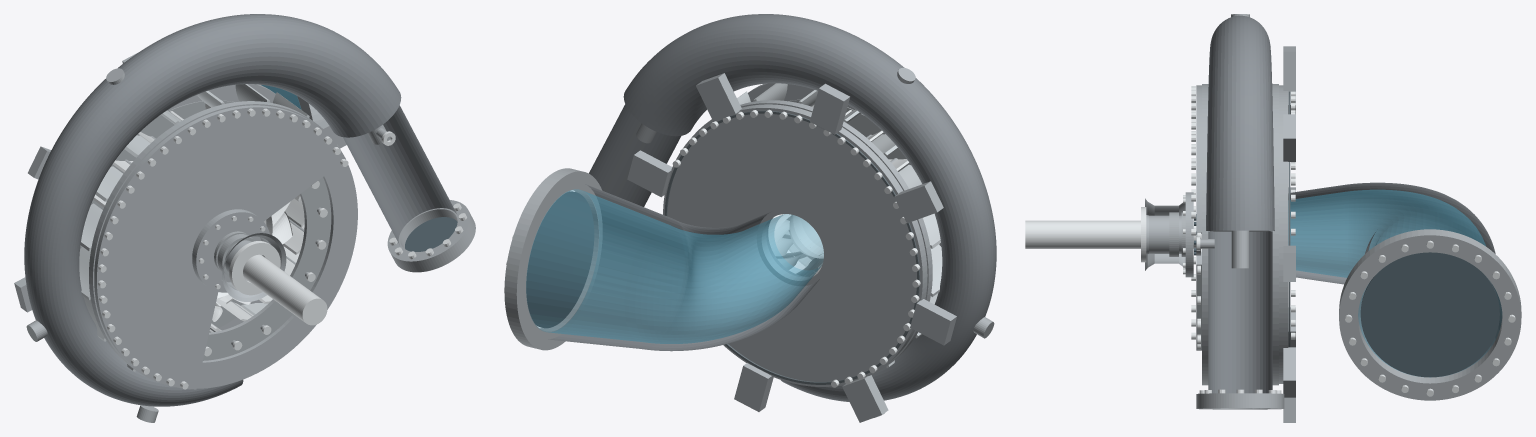
File: francis_hydroelectric_turbine.glb
The picture shows the model from 3 angles, left to right: view 1: azimuth 30°, elevation 25°; view 2: azimuth 150°, elevation 25°; view 3: azimuth 270°, elevation 25°; orthographic projection.
Visible parts, largest first — view 1: 01_Spiral_Casing_Cutaway, 50_Top_Casing_Cover_Cutaway, 10_Stay_Ring_Upper, 03_Tangential_Inlet_Pipe, 20_Guide_Vane_Upper_Rail, 04_Inlet_Flange, 40_Main_Vertical_Shaft, 43_Bearing_Pedestal_Flange, 54_Top_Cover_Bolt_Set, 21_Guide_Vane_Lower_Rail, 45_Bearing_Top_Gland, 05_Inlet_Bore_Shadow (+8 smaller); view 2: 51_Bottom_Casing_Cover, 01_Spiral_Casing_Cutaway, 61_Draft_Tube_Translucent_Water_Lining, 60_Draft_Tube_Expanding_Elbow, 63_Draft_Tube_Outlet_Bore_Shadow, 62_Draft_Tube_Outlet_Flange, 03_Tangential_Inlet_Pipe, 55_Bottom_Cover_Bolt_Set, 11_Stay_Ring_Lower, 53_Bottom_Cover_Gasket, 56_Foundation_Mounting_Foot_05, 56_Foundation_Mounting_Foot_03 (+9 smaller); view 3: 63_Draft_Tube_Outlet_Bore_Shadow, 01_Spiral_Casing_Cutaway, 60_Draft_Tube_Expanding_Elbow, 62_Draft_Tube_Outlet_Flange, 61_Draft_Tube_Translucent_Water_Lining, 03_Tangential_Inlet_Pipe, 40_Main_Vertical_Shaft, 51_Bottom_Casing_Cover, 11_Stay_Ring_Lower, 44_Bearing_Housing, 10_Stay_Ring_Upper, 04_Inlet_Flange (+11 smaller).
Part boxes in pixels (bbox=[...]): 01_Spiral_Casing_Cutaway: bbox=[24, 14, 401, 406]; 50_Top_Casing_Cover_Cutaway: bbox=[94, 105, 345, 389]; 10_Stay_Ring_Upper: bbox=[89, 101, 357, 388]; 03_Tangential_Inlet_Pipe: bbox=[343, 105, 456, 244]; 20_Guide_Vane_Upper_Rail: bbox=[203, 177, 331, 360]; 04_Inlet_Flange: bbox=[387, 200, 475, 272]; 40_Main_Vertical_Shaft: bbox=[243, 254, 327, 325]; 43_Bearing_Pedestal_Flange: bbox=[192, 209, 269, 292]; 54_Top_Cover_Bolt_Set: bbox=[97, 108, 348, 389]; 21_Guide_Vane_Lower_Rail: bbox=[80, 100, 283, 332]; 45_Bearing_Top_Gland: bbox=[229, 241, 280, 295]; 05_Inlet_Bore_Shadow: bbox=[405, 217, 457, 251]; 51_Bottom_Casing_Cover: bbox=[663, 104, 927, 386]; 01_Spiral_Casing_Cutaway: bbox=[623, 14, 996, 401]; 61_Draft_Tube_Translucent_Water_Lining: bbox=[526, 189, 823, 343]; 60_Draft_Tube_Expanding_Elbow: bbox=[548, 184, 819, 351]; 63_Draft_Tube_Outlet_Bore_Shadow: bbox=[526, 191, 594, 328]; 62_Draft_Tube_Outlet_Flange: bbox=[504, 168, 602, 350]; 03_Tangential_Inlet_Pipe: bbox=[589, 104, 681, 206]; 55_Bottom_Cover_Bolt_Set: bbox=[672, 109, 920, 387]; 11_Stay_Ring_Lower: bbox=[692, 100, 932, 374]; 53_Bottom_Cover_Gasket: bbox=[664, 110, 919, 384]; 56_Foundation_Mounting_Foot_05: bbox=[910, 299, 956, 345]; 56_Foundation_Mounting_Foot_03: bbox=[810, 83, 849, 134]; 63_Draft_Tube_Outlet_Bore_Shadow: bbox=[1360, 252, 1499, 377]; 01_Spiral_Casing_Cutaway: bbox=[1206, 15, 1274, 230]; 60_Draft_Tube_Expanding_Elbow: bbox=[1288, 182, 1502, 377]; 62_Draft_Tube_Outlet_Flange: bbox=[1339, 229, 1521, 400]; 61_Draft_Tube_Translucent_Water_Lining: bbox=[1288, 189, 1501, 370]; 03_Tangential_Inlet_Pipe: bbox=[1208, 231, 1272, 393]; 40_Main_Vertical_Shaft: bbox=[1025, 220, 1201, 248]; 51_Bottom_Casing_Cover: bbox=[1279, 85, 1288, 383]; 11_Stay_Ring_Lower: bbox=[1271, 84, 1278, 385]; 44_Bearing_Housing: bbox=[1145, 198, 1185, 270]; 10_Stay_Ring_Upper: bbox=[1202, 84, 1209, 385]; 04_Inlet_Flange: bbox=[1196, 393, 1284, 409].
Size of the model in its own units: 3.72 by 3.08 by 3.67.
